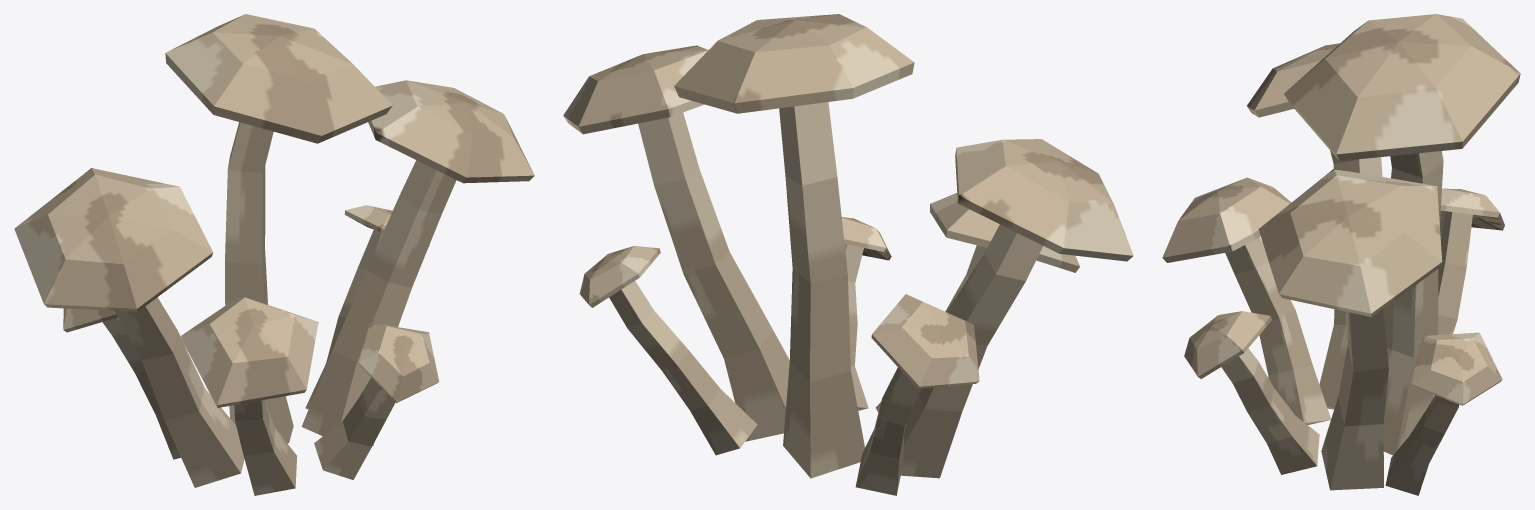
Rendered from SM_SW06_PaleMushroomsCluster.fbx.
The picture shows the model from 3 angles, left to right: view 1: azimuth 30°, elevation 25°; view 2: azimuth 150°, elevation 25°; view 3: azimuth 270°, elevation 25°; orthographic projection. The views are drawn at different scales.
Visible parts, largest first — view 1: SW06b_Props; view 2: SW06b_Props; view 3: SW06b_Props.
Part boxes in pixels (x1,y1,x2,y2): SW06b_Props: [14, 14, 534, 495]; SW06b_Props: [563, 14, 1133, 495]; SW06b_Props: [1162, 14, 1520, 495].
Size of the model in its own units: 0.3437 by 0.2715 by 0.2059.
